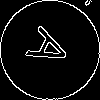A: (25, 25, 81, 76)
